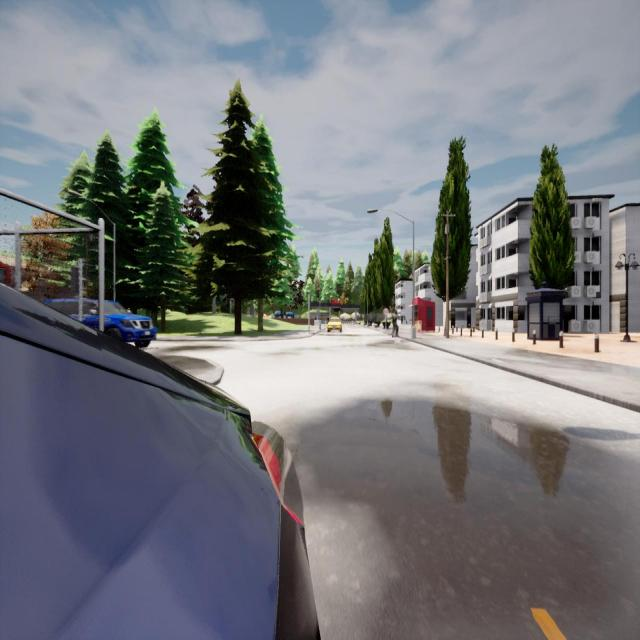Pedestrian: (392, 310, 398, 338)
Traffic_Signs: (383, 308, 388, 315)
Vehicle: (0, 287, 318, 637), (43, 299, 157, 347), (327, 318, 342, 332)
traffic_light: (71, 267, 79, 293)
